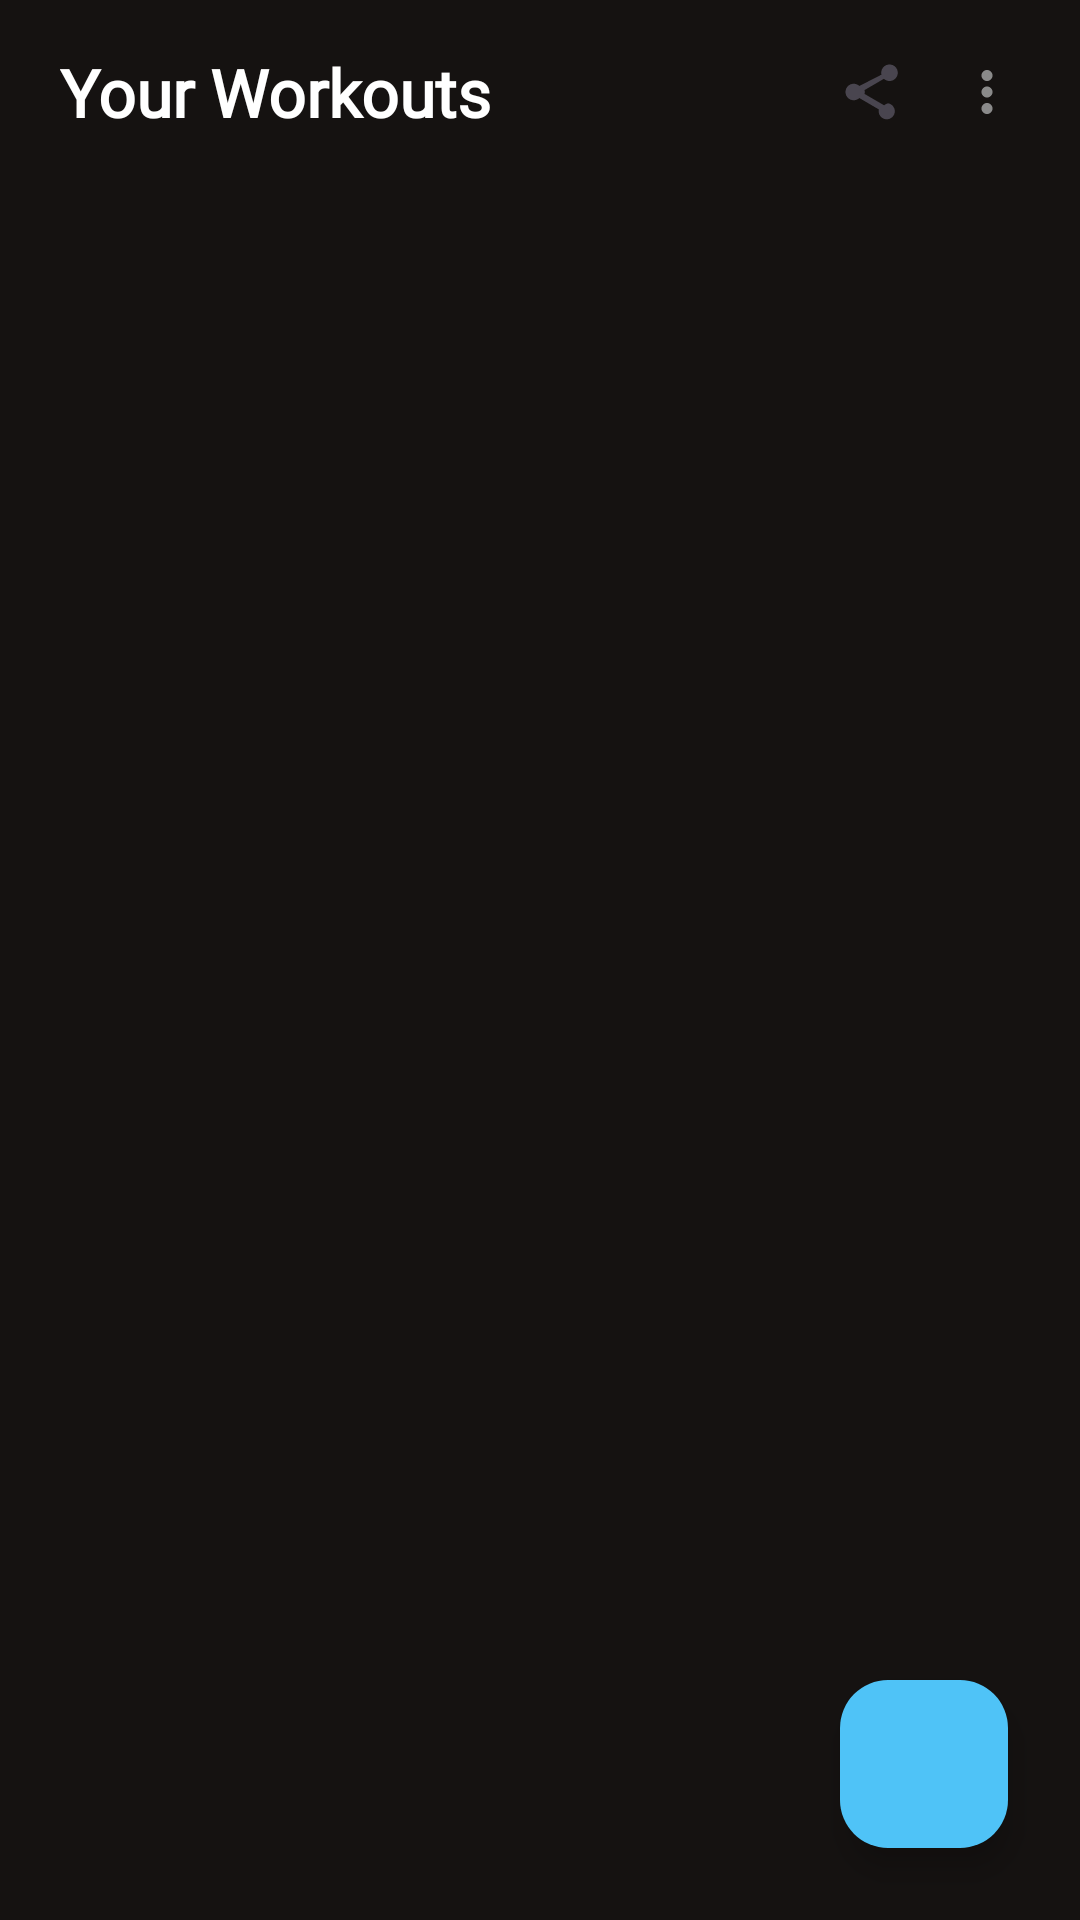

Named icons in this screenshot (1080*1920) and their centers, [x,y]:
Options: [987,92]
Share your plan: [871,91]
